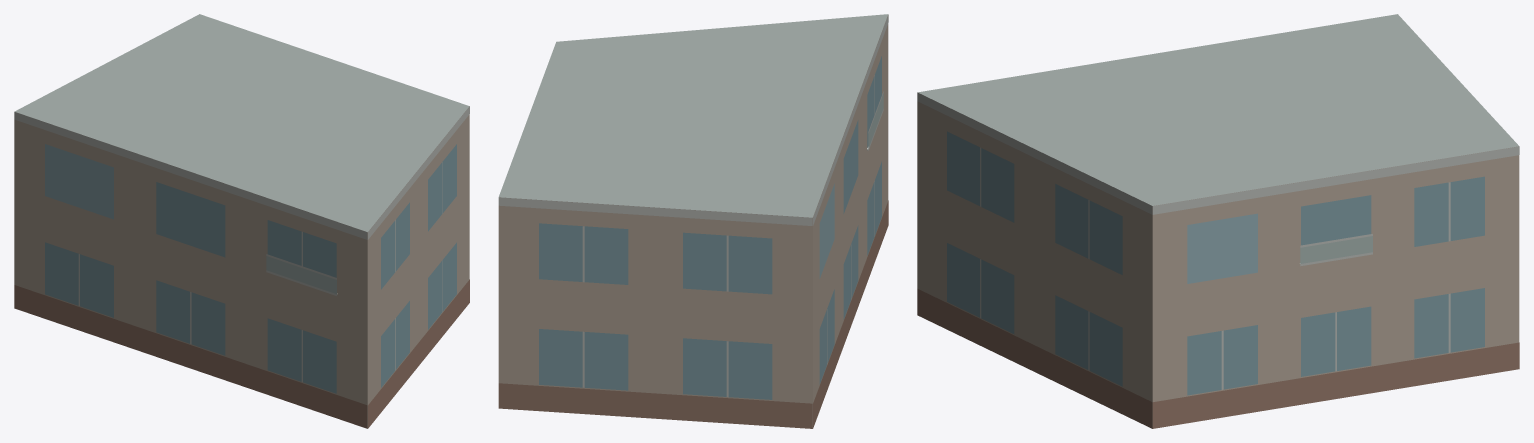
Rendered from survey-upis-32470975.glb.
The picture shows the model from 3 angles, left to right: view 1: azimuth 30°, elevation 25°; view 2: azimuth 150°, elevation 25°; view 3: azimuth 270°, elevation 25°; orthographic projection. The views are drawn at different scales.
Parts seen in each view (by area): view 1: survey-upis-32470975.tmp; view 2: survey-upis-32470975.tmp; view 3: survey-upis-32470975.tmp.
Part boxes in pixels (box(x1,y1,x2,y2)): survey-upis-32470975.tmp: box(14, 14, 469, 428); survey-upis-32470975.tmp: box(498, 14, 888, 428); survey-upis-32470975.tmp: box(917, 14, 1519, 428).
Size of the model in its own units: 11.28 by 6.1 by 14.95.
